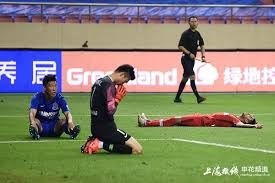falling: (24, 71, 81, 144)
